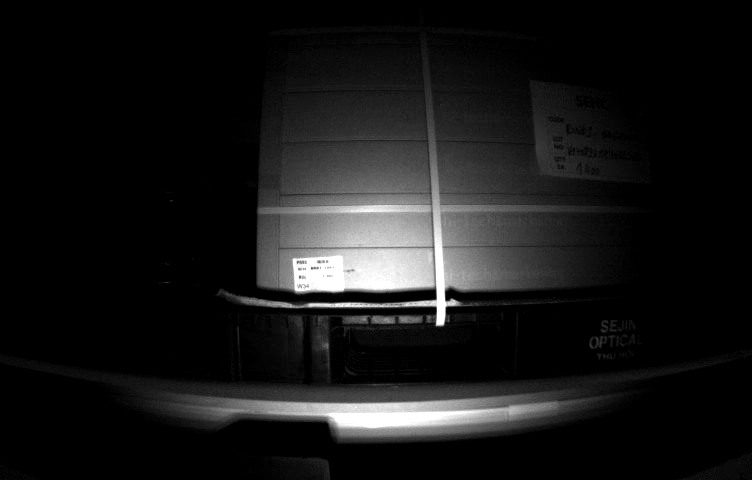True Barcode: (291, 256, 349, 293)
